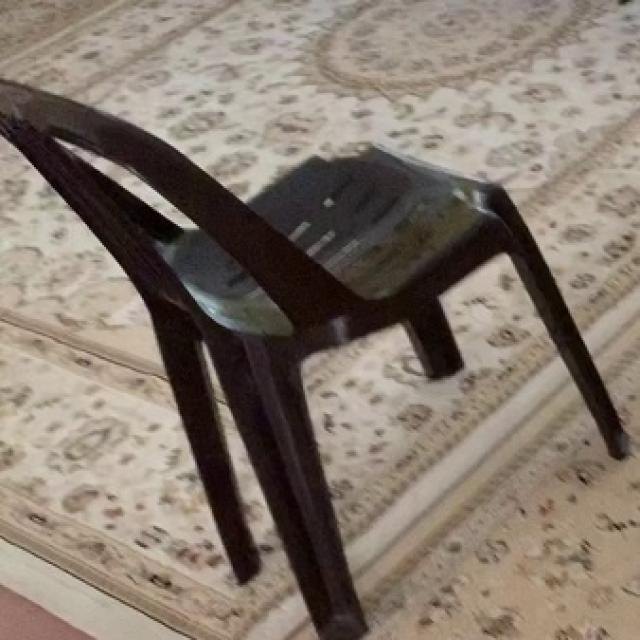chair: (2, 74, 634, 640)
